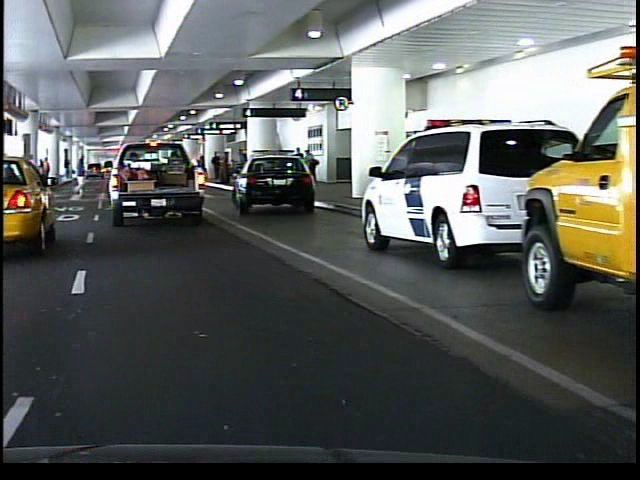person: (69, 152, 87, 198)
